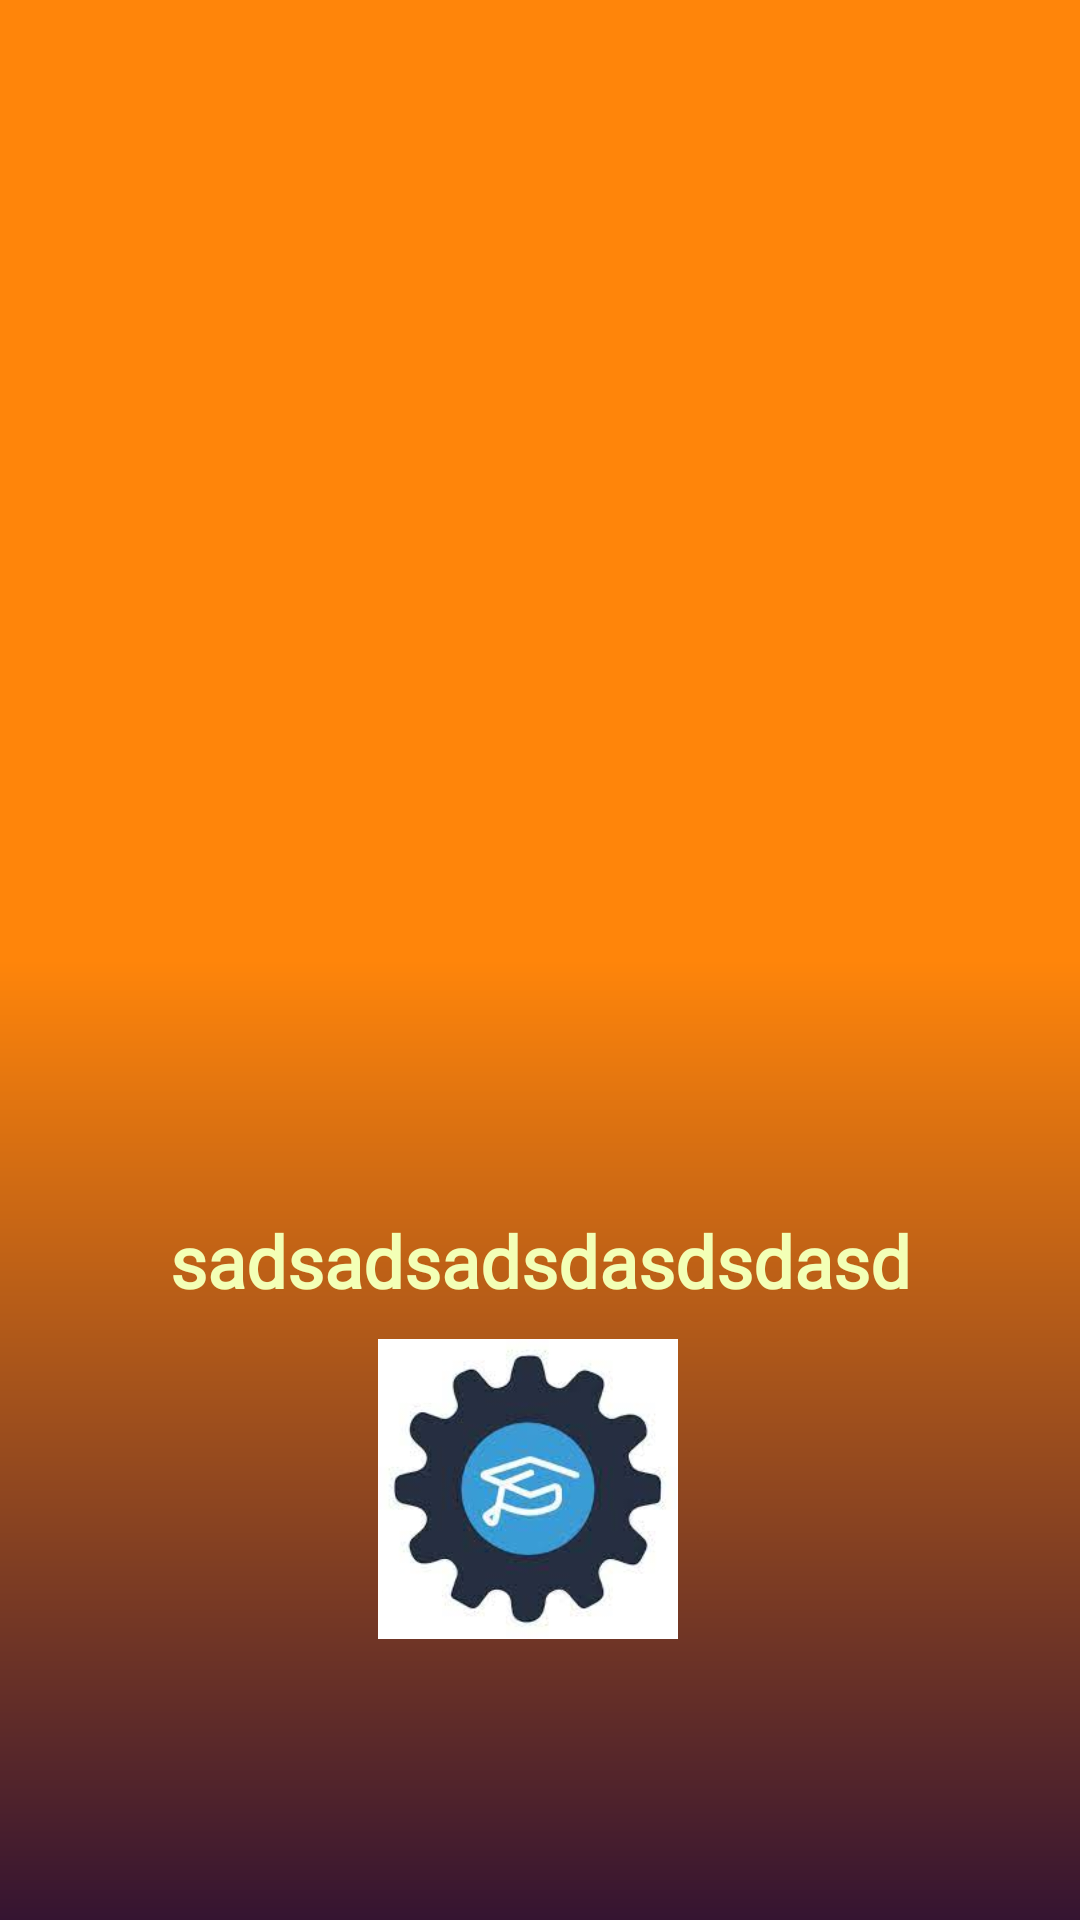

Icons on this 1080w x 1920h Android screen, each with the point to tap as (x=x, y=y):
skg education: (x=528, y=1489)
